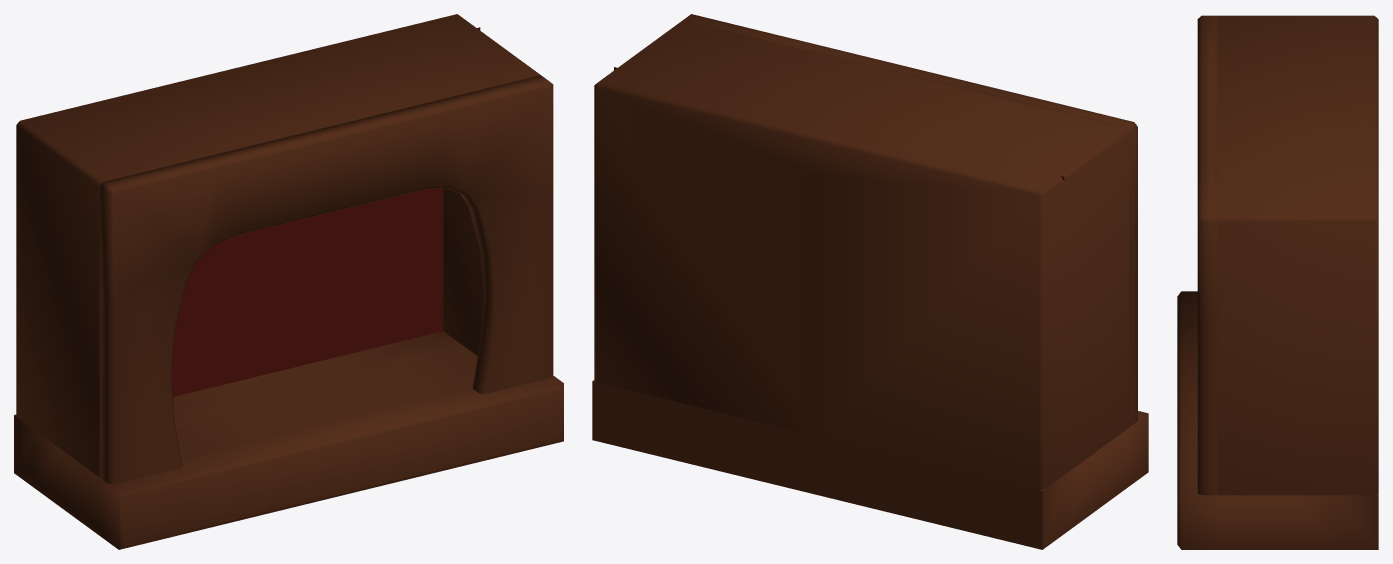
The model's file is SM_Stage.fbx.
3 renders of one model, left to right at view 1: azimuth 30°, elevation 25°; view 2: azimuth 150°, elevation 25°; view 3: azimuth 270°, elevation 25°, orthographic. The views are drawn at different scales.
Visible parts, largest first — view 1: Box002, Box004, Box001, Plane001; view 2: Box004, Box001, Box002; view 3: Box004, Box001, Box002.
Boxes of the visible parts, <box> form: Box002: <box>99,75,553,484</box>; Box004: <box>16,14,540,477</box>; Box001: <box>14,331,563,549</box>; Plane001: <box>35,27,480,396</box>; Box004: <box>594,20,1129,489</box>; Box001: <box>592,380,1148,549</box>; Box002: <box>683,14,1137,427</box>; Box004: <box>1217,15,1378,495</box>; Box001: <box>1177,291,1378,549</box>; Box002: <box>1197,15,1217,495</box>.
Size of the model in its own units: 1200 by 910 by 500.
